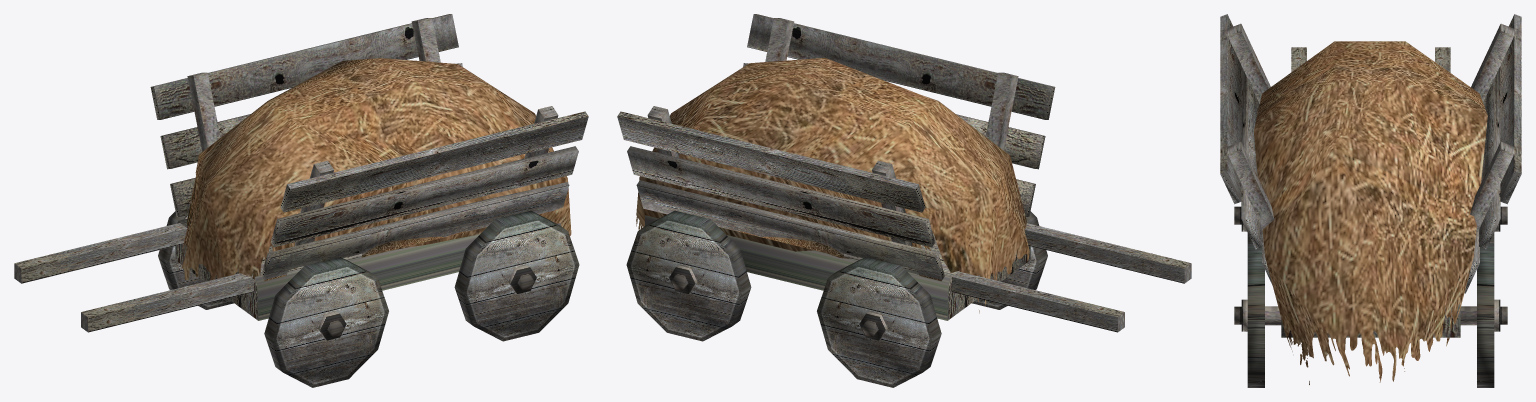
File: hay_wagon.fbx
3 renders of one model, left to right at view 1: azimuth 30°, elevation 25°; view 2: azimuth 150°, elevation 25°; view 3: azimuth 270°, elevation 25°, orthographic. The views are drawn at different scales.
Visible parts, largest first — view 1: U3DMesh; view 2: U3DMesh; view 3: U3DMesh.
Boxes of the visible parts, x1,y1,x2,y2 form: U3DMesh: (14, 14, 588, 387); U3DMesh: (617, 14, 1191, 387); U3DMesh: (1220, 14, 1521, 387).
Bounding box in the file's own units: 48.23 × 22.31 × 23.37.
